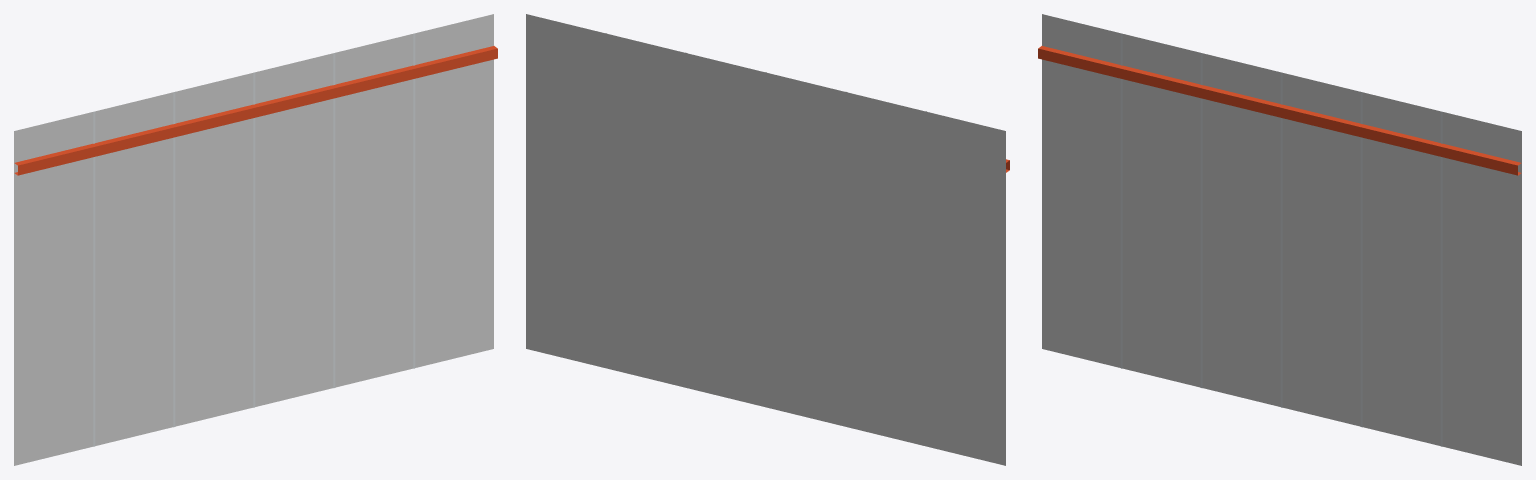
File: mid-w2_close.fbx
3 views of the same model, side by side, from view 1: azimuth 30°, elevation 25°; view 2: azimuth 150°, elevation 25°; view 3: azimuth 330°, elevation 25° (orthographic).
Visible parts, largest first — view 1: a2008/0/mid-w2_close; view 2: a2008/0/mid-w2_close; view 3: a2008/0/mid-w2_close.
Boxes of the visible parts, x1,y1,x2,y2 form: a2008/0/mid-w2_close: [14, 14, 497, 465]; a2008/0/mid-w2_close: [526, 14, 1009, 465]; a2008/0/mid-w2_close: [1038, 14, 1521, 465].
Bounding box in the file's own units: 6 × 4 × 0.08.
